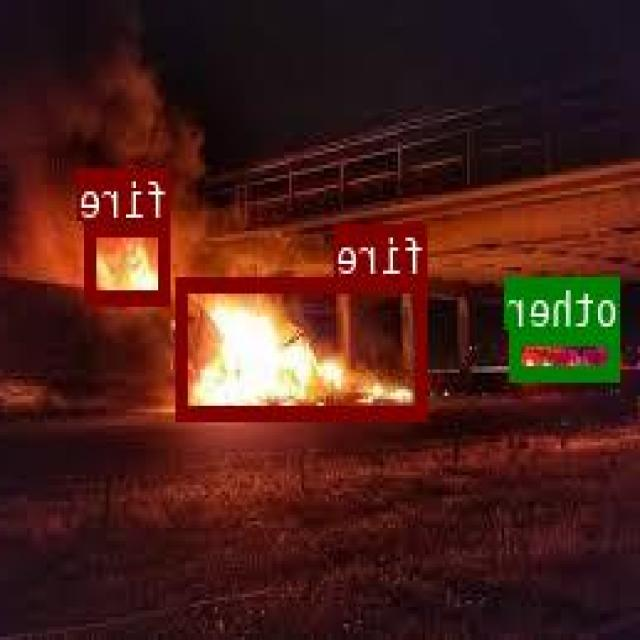fire: (178, 275, 429, 417), (87, 220, 173, 300)
other: (512, 330, 622, 378)
